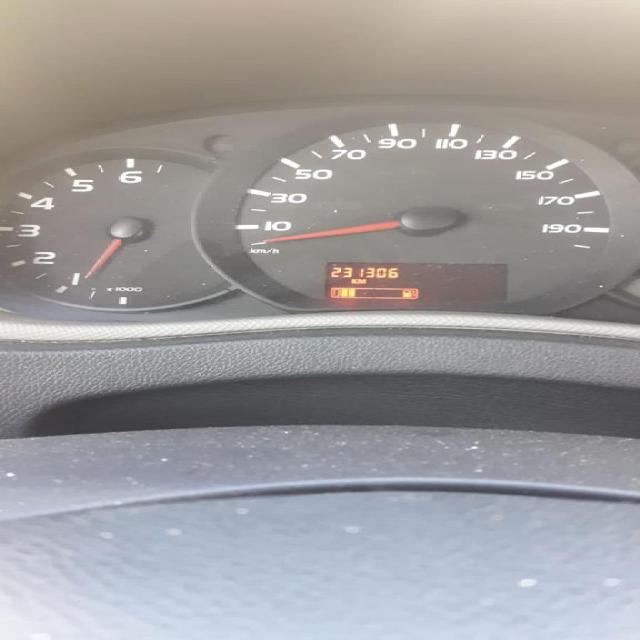odometer: (321, 260, 510, 306)
